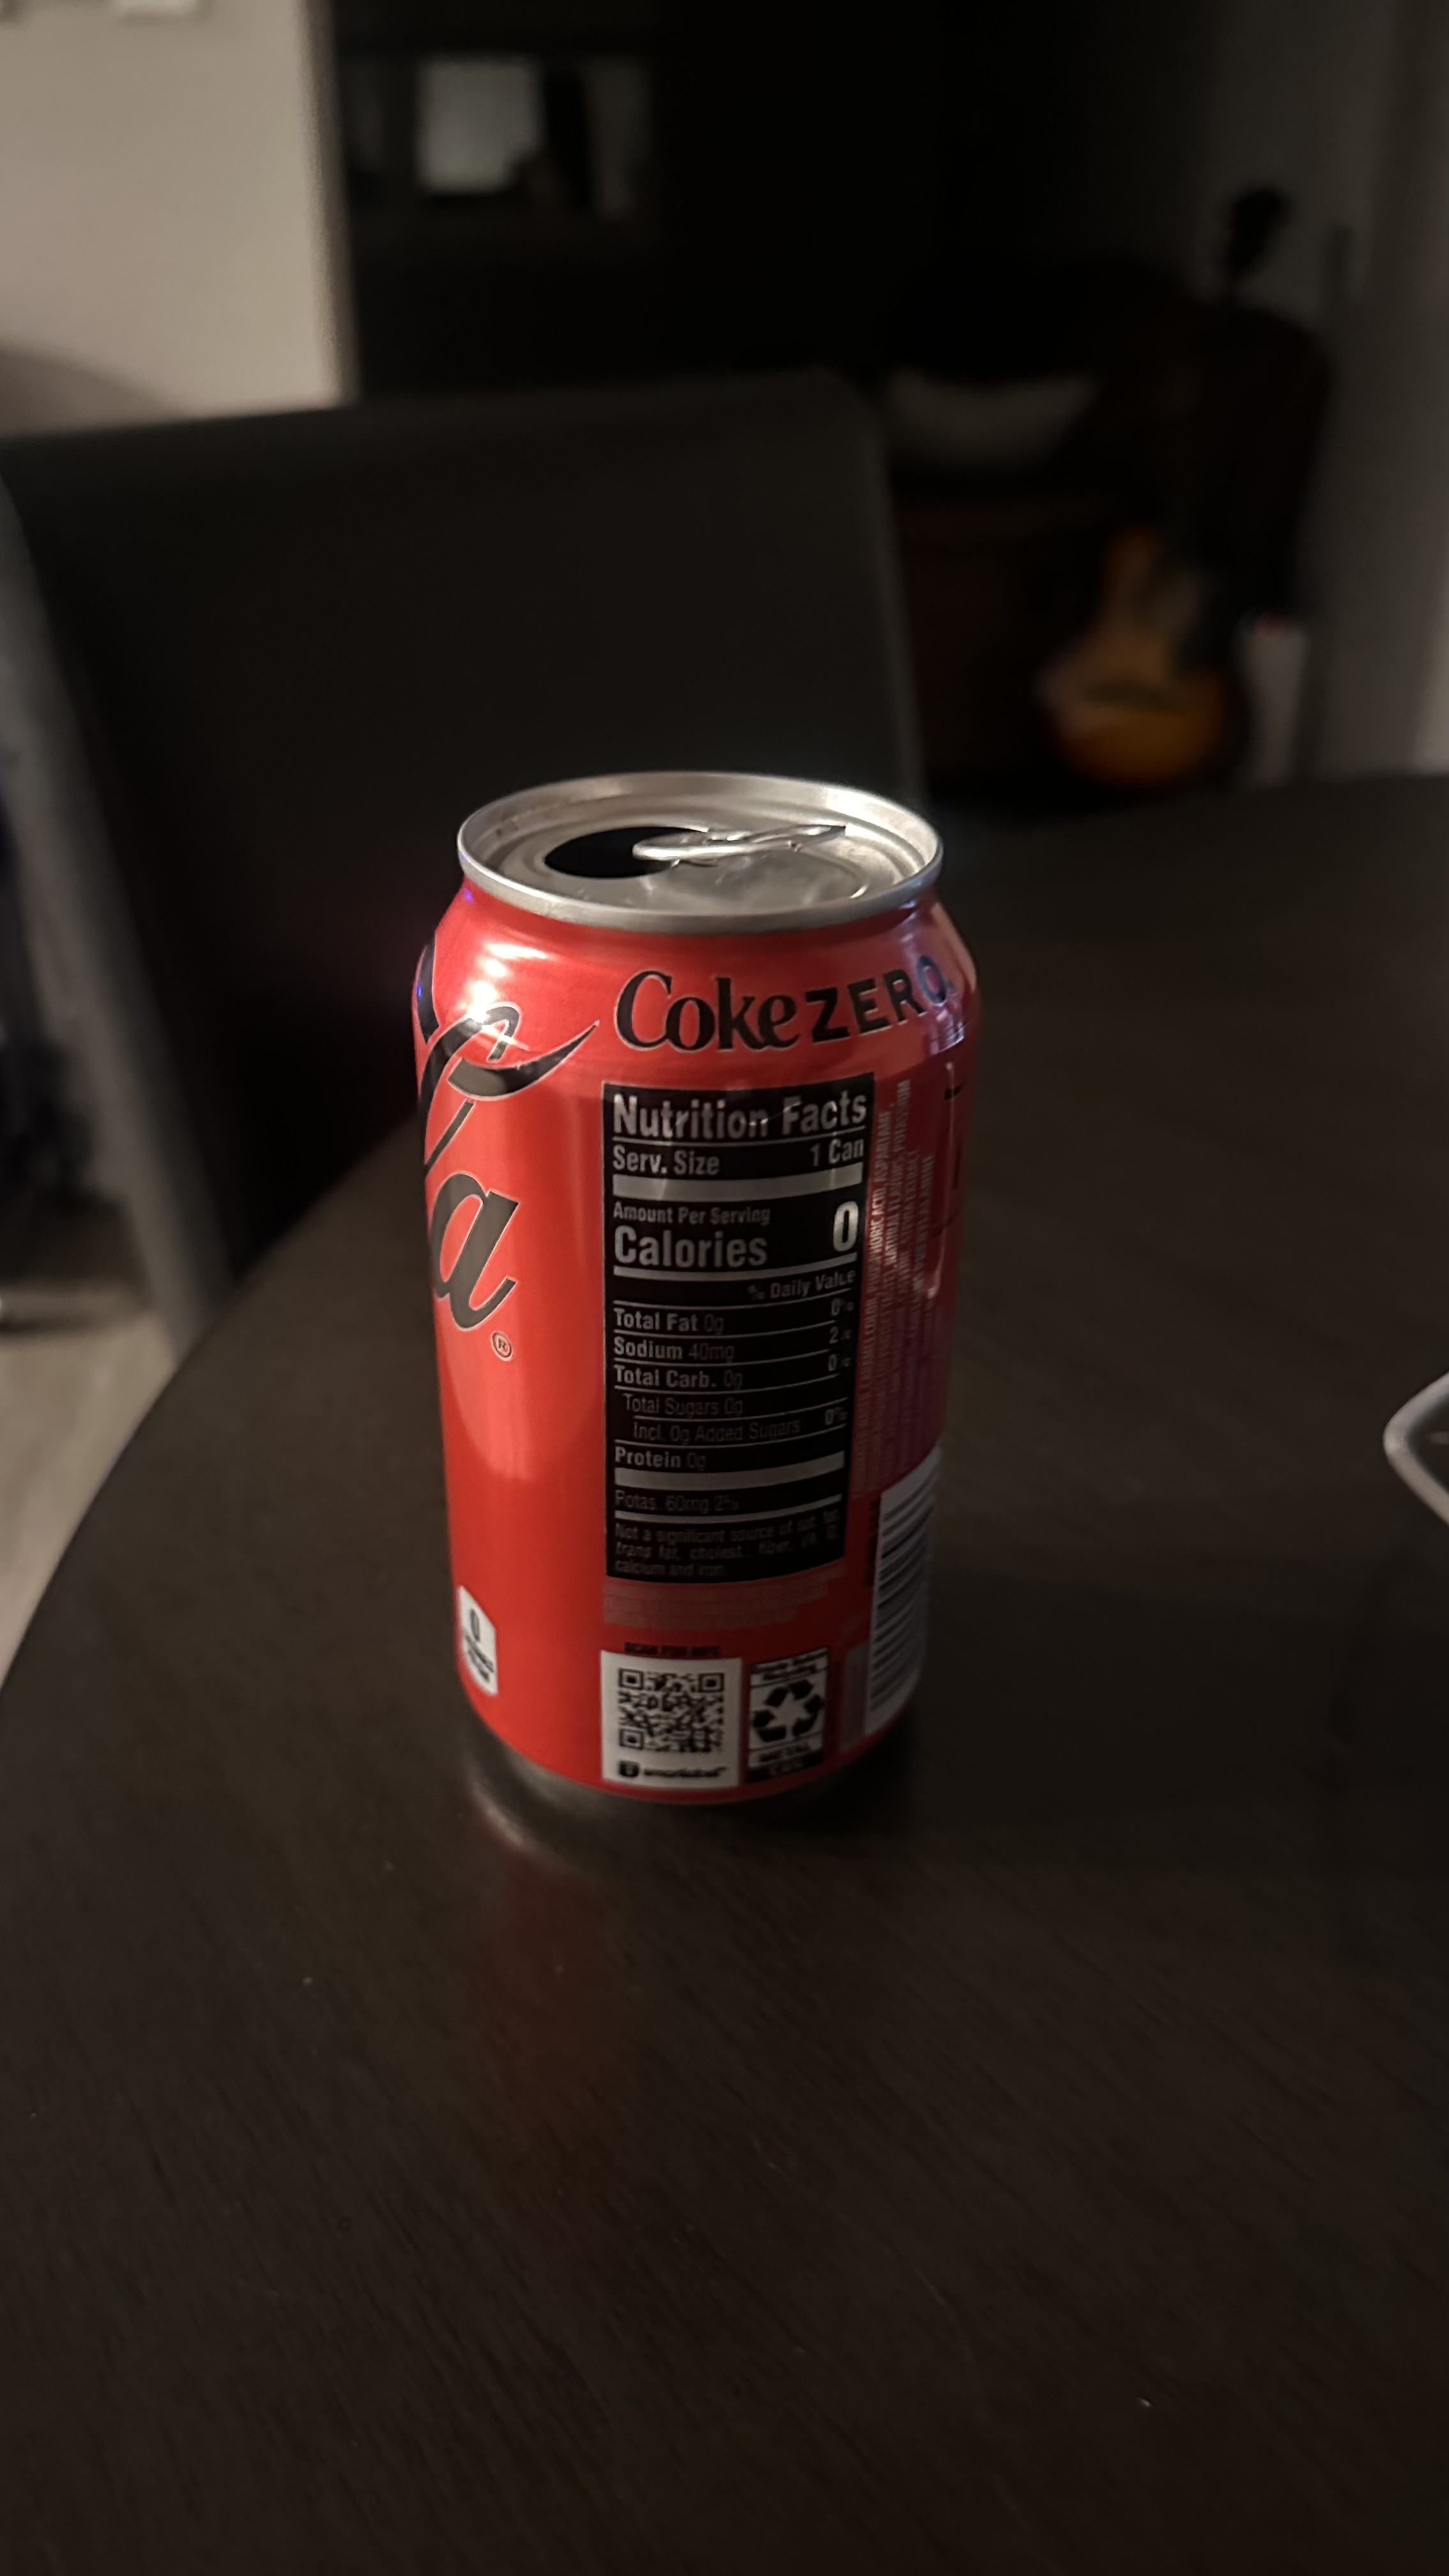Coke Zero: (338, 741, 1012, 1856)
